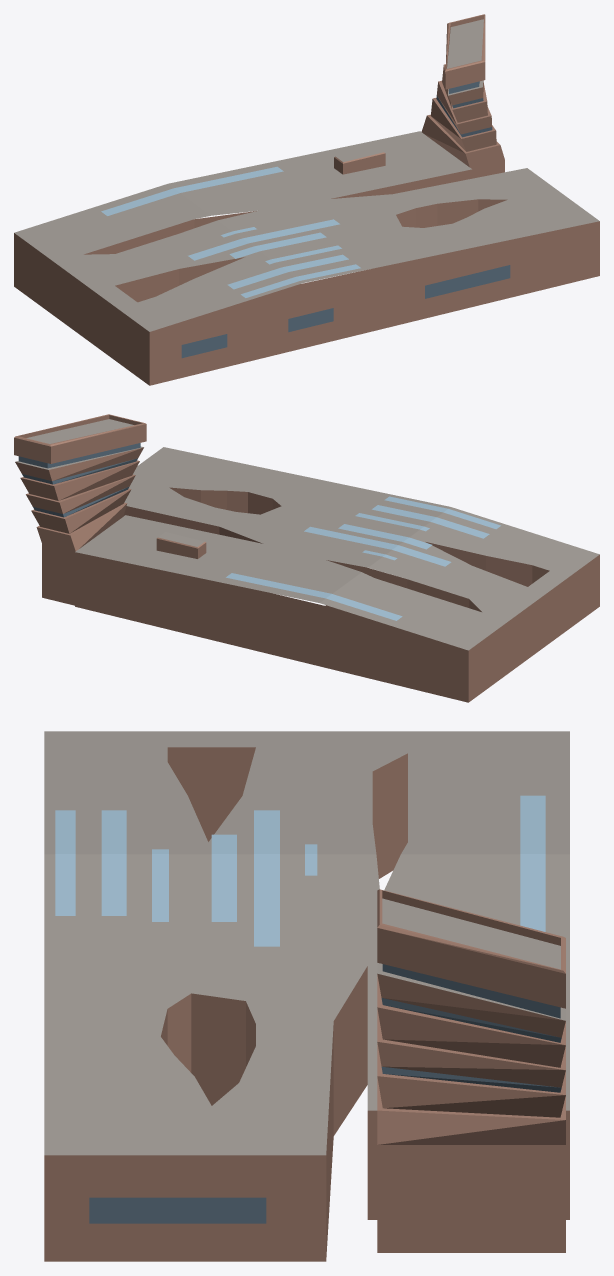
Rendered from sf-de-young.glb.
3 views of the same model, one above another, from view 1: azimuth 30°, elevation 25°; view 2: azimuth 150°, elevation 25°; view 3: azimuth 270°, elevation 25° (orthographic). The views are drawn at different scales.
Visible parts, largest first — view 1: de Young Museum; view 2: de Young Museum; view 3: de Young Museum.
Boxes of the visible parts, box(x1,y1,x2,y2) form: de Young Museum: box(14, 14, 599, 385); de Young Museum: box(14, 414, 599, 702); de Young Museum: box(44, 731, 569, 1261).
Size of the model in its own units: 154 by 50 by 77.25.
